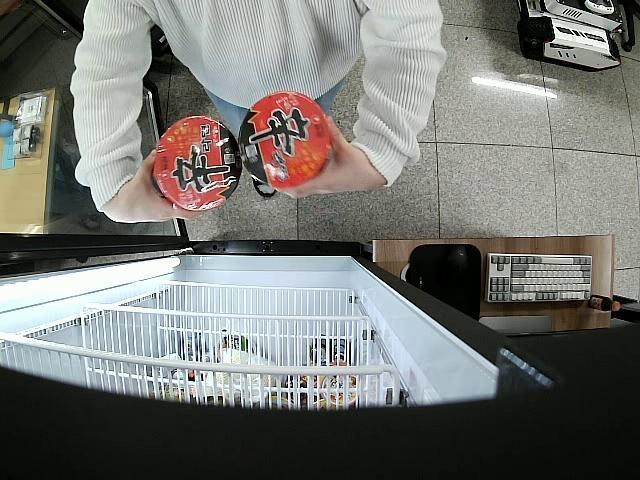01_ShinRamen_L: (238, 90, 330, 189), (154, 117, 242, 212)
